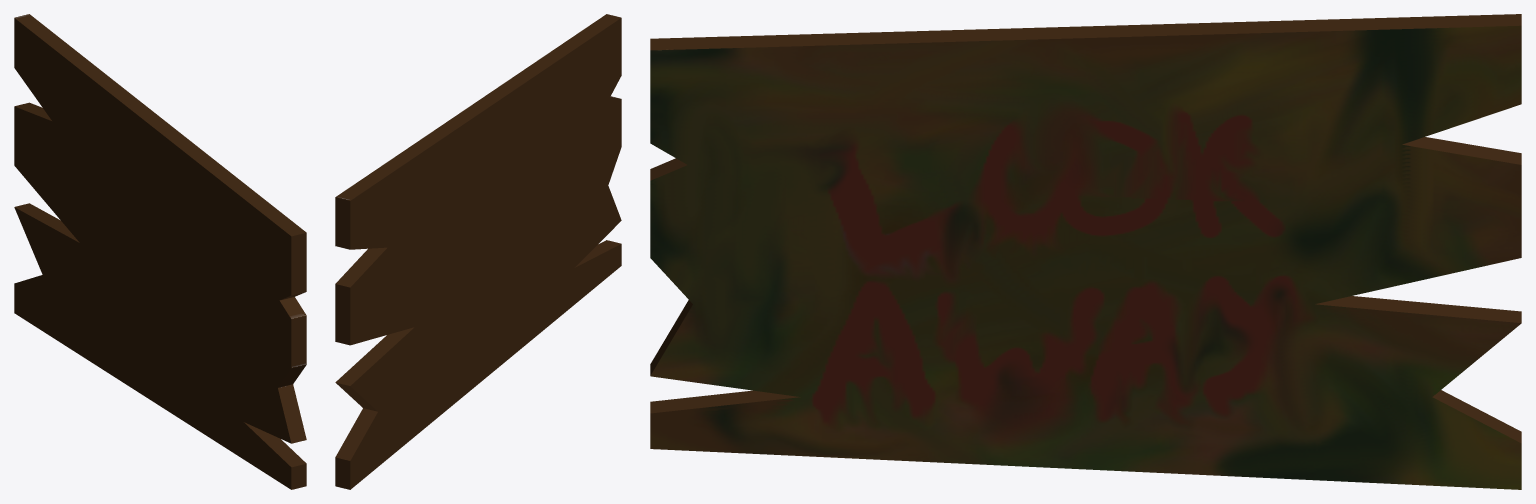
File: Sign1.fbx
The picture shows the model from 3 angles, left to right: view 1: azimuth 30°, elevation 25°; view 2: azimuth 150°, elevation 25°; view 3: azimuth 270°, elevation 25°; orthographic projection. The views are drawn at different scales.
Parts seen in each view (by area): view 1: Cube; view 2: Cube; view 3: Cube.
Part boxes in pixels (box(x1,y1,x2,y2)): Cube: box(14, 14, 306, 489); Cube: box(335, 14, 621, 489); Cube: box(650, 14, 1521, 489).
Bounding box in the file's own units: 2.84 × 52.25 × 88.92.
Materials: 1 (1 with a texture image).
